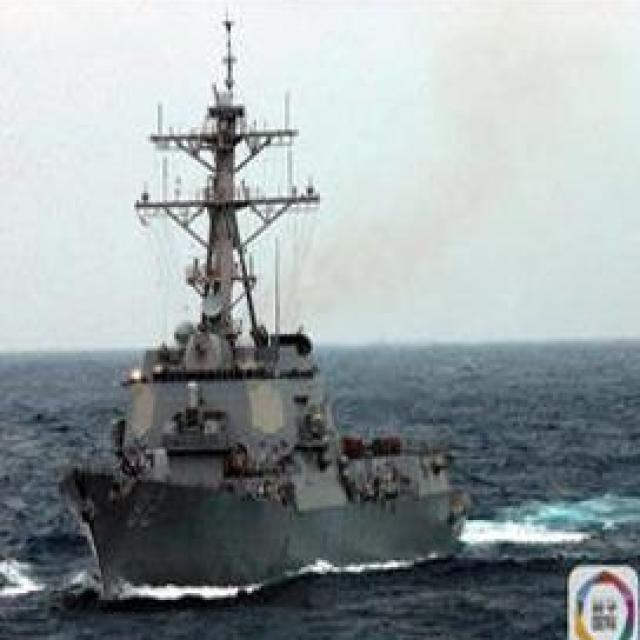navalvessels: (51, 0, 477, 595)
